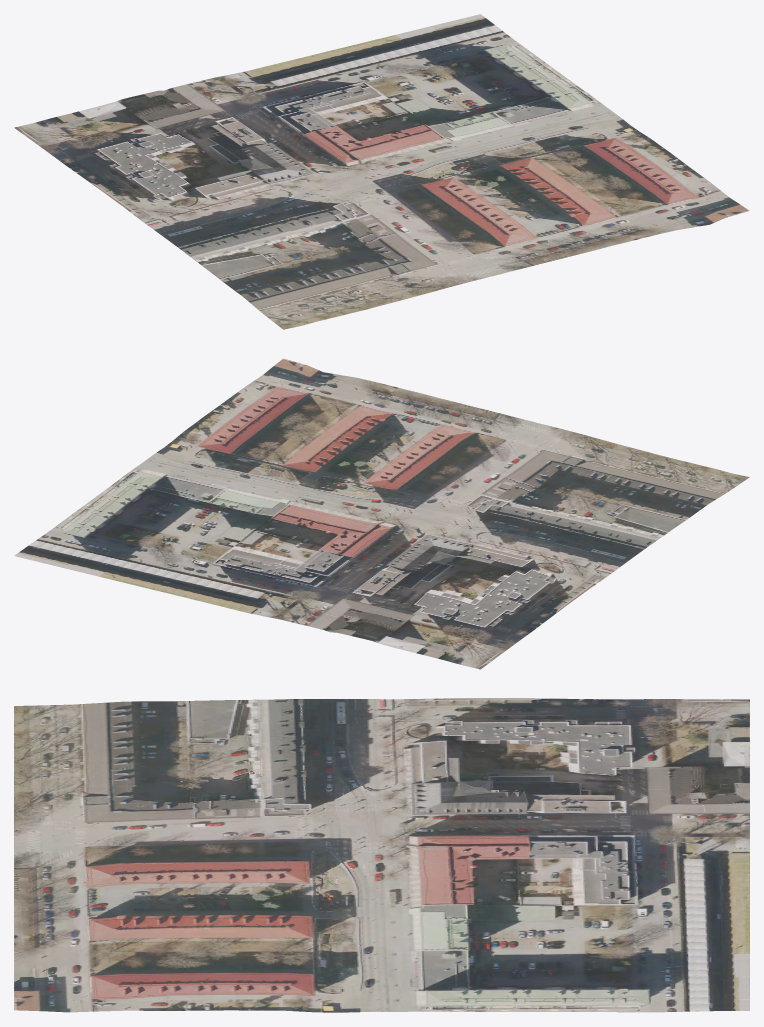
The model's file is CM_Terrain_24488410_6821022.fbx.
3 renders of one model, top to bottom at view 1: azimuth 30°, elevation 25°; view 2: azimuth 150°, elevation 25°; view 3: azimuth 270°, elevation 25°, orthographic. The views are drawn at different scales.
Parts seen in each view (by area): view 1: CM_Terrain_24488410_6821022_LOD0; view 2: CM_Terrain_24488410_6821022_LOD0; view 3: CM_Terrain_24488410_6821022_LOD0.
Boxes of the visible parts, x1,y1,x2,y2 form: CM_Terrain_24488410_6821022_LOD0: [14, 14, 749, 329]; CM_Terrain_24488410_6821022_LOD0: [14, 358, 749, 669]; CM_Terrain_24488410_6821022_LOD0: [14, 698, 749, 1012].
Size of what is drawn, in the model's own units: 205 by 4.13 by 205.
